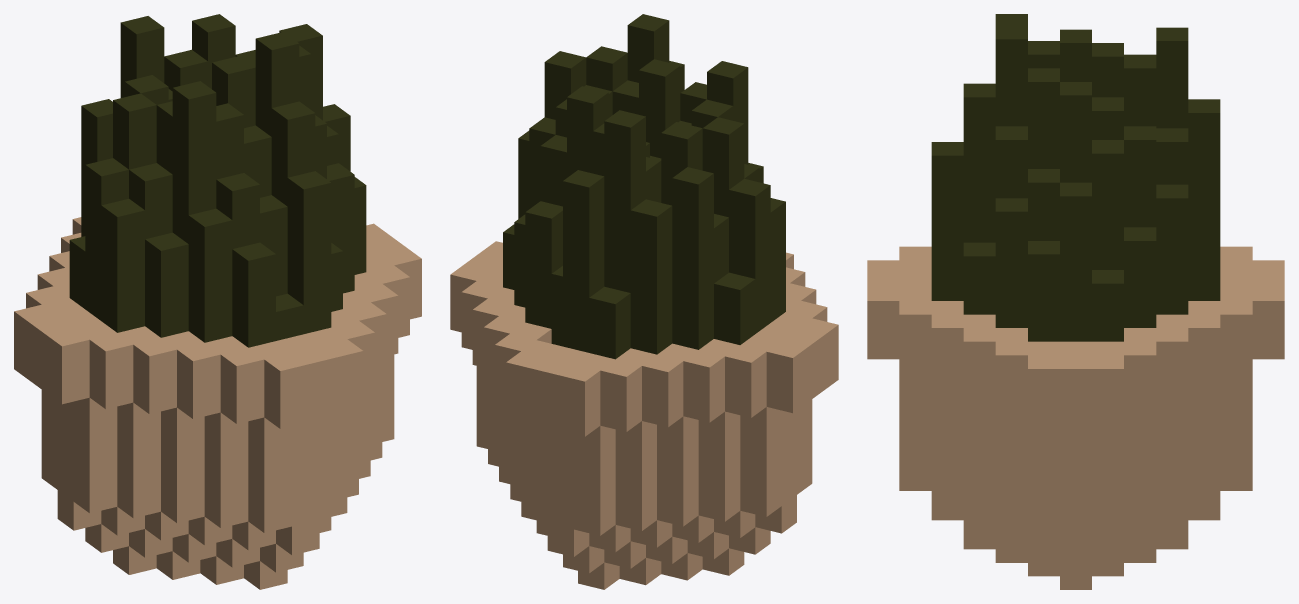
File: Pot de fleurs.obj
The picture shows the model from 3 angles, left to right: view 1: azimuth 30°, elevation 25°; view 2: azimuth 150°, elevation 25°; view 3: azimuth 270°, elevation 25°; orthographic projection. The views are drawn at different scales.
Parts seen in each view (by area): view 1: Pot de fleurs; view 2: Pot de fleurs; view 3: Pot de fleurs.
Part boxes in pixels (x1,y1,x2,y2): Pot de fleurs: (14,14,421,589); Pot de fleurs: (450,14,838,589); Pot de fleurs: (867,14,1284,589).
Size of the model in its own units: 13 by 18 by 13.
1 material, 1 textured.
